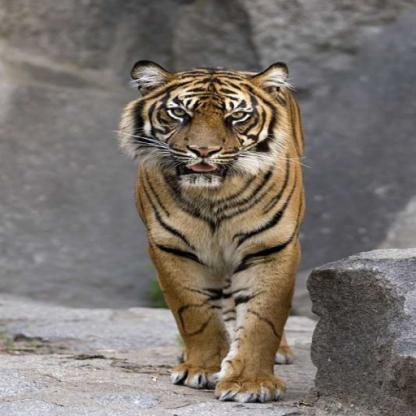Tiger: (96, 36, 331, 413)
